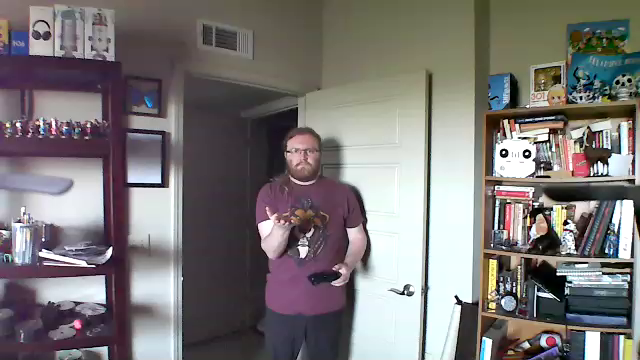land: (262, 203, 297, 229)
